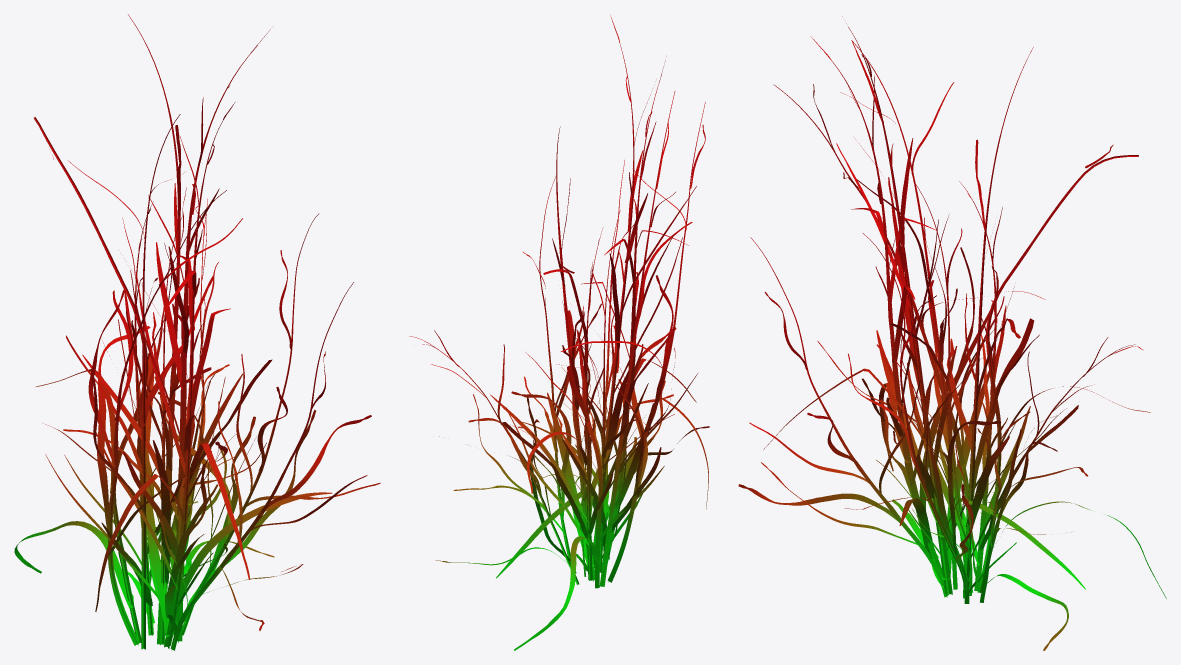
File: tefocd1r_Var2_LOD0.fbx
3 views of the same model, side by side, from view 1: azimuth 30°, elevation 25°; view 2: azimuth 150°, elevation 25°; view 3: azimuth 270°, elevation 25° (orthographic). The views are drawn at different scales.
Parts seen in each view (by area): view 1: _85b7_Var2_LOD0; view 2: _85b7_Var2_LOD0; view 3: _85b7_Var2_LOD0.
Part boxes in pixels (x1,y1,x2,y2): _85b7_Var2_LOD0: (14,14,380,650); _85b7_Var2_LOD0: (409,15,709,650); _85b7_Var2_LOD0: (738,16,1166,650).
Bounding box in the file's own units: 38.95 × 92.22 × 58.63.
